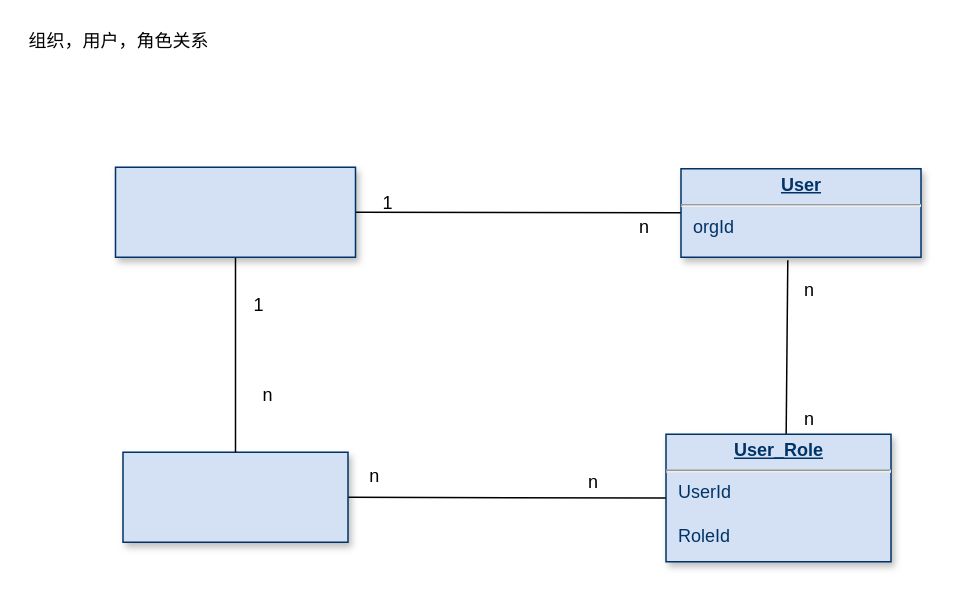
The diagram is 957 pixels wide and 599 high, and some of its shapes have lost their labels. The shapes that lost their labels are listed below. From the top down, each one's centre as x and y in pixels, then its label:
At [236,214]: "Organization".
At [236,499]: "Role orgId".
